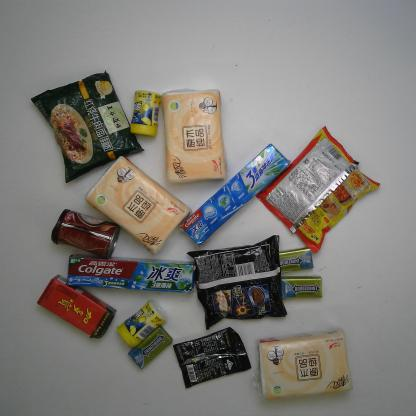Canned Food: (49, 206, 121, 258)
Drink: (35, 274, 116, 341)
Gum: (116, 299, 167, 349), (126, 326, 172, 372), (126, 87, 160, 138), (271, 247, 315, 275), (280, 276, 323, 298)
Instant Drink: (172, 328, 252, 388)
Instant Noodles: (254, 126, 380, 255), (32, 70, 144, 180), (186, 235, 289, 328)
Personal Hygiene: (180, 142, 290, 245), (64, 252, 197, 296)
Tissue: (84, 156, 192, 252), (258, 330, 353, 402), (160, 88, 230, 183)
